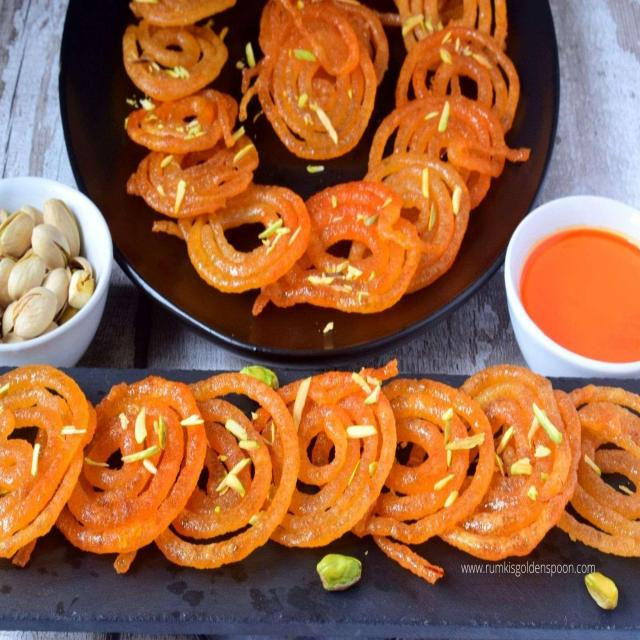jalebi: (115, 5, 531, 323), (0, 371, 628, 563)
